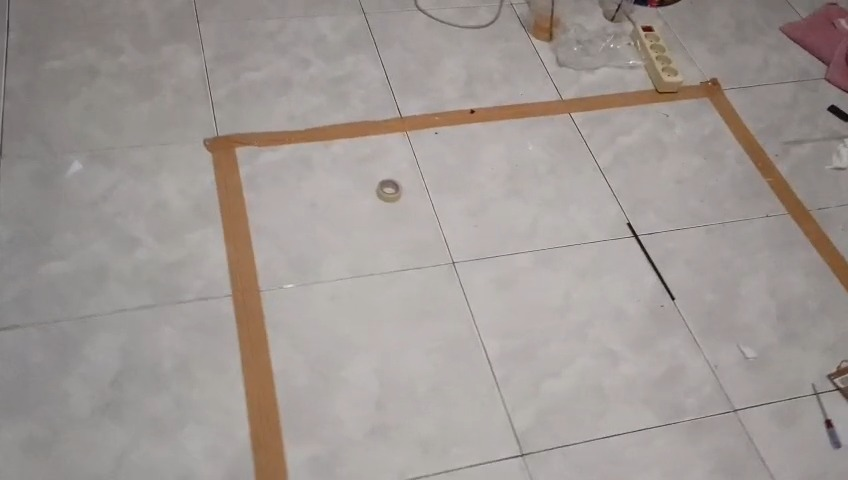floor marking: (204, 78, 847, 479)
